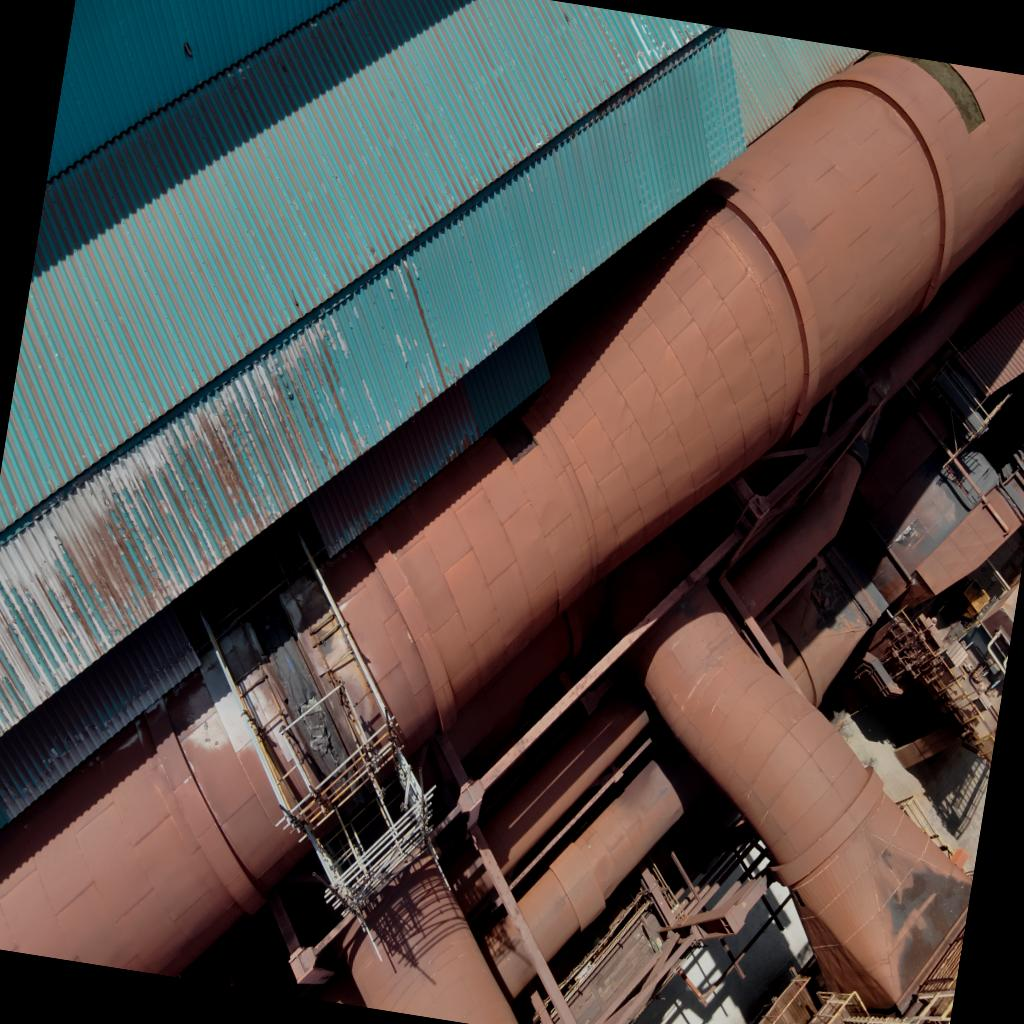Failures: (276, 676, 374, 823), (889, 55, 998, 134), (485, 378, 543, 466), (806, 574, 859, 628)
